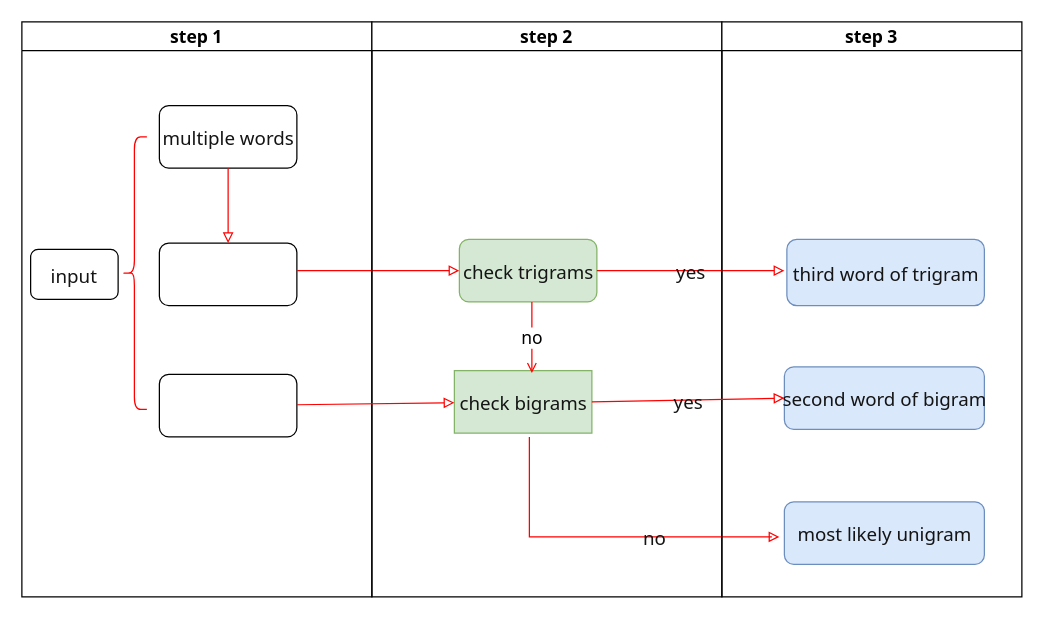
Image size: 1044x619. Some labels were removed from this diagram. The centre of each missing label's shape, as x and y in pixels:
"one word" belongs at point (227, 405).
"two words" belongs at point (227, 274).
